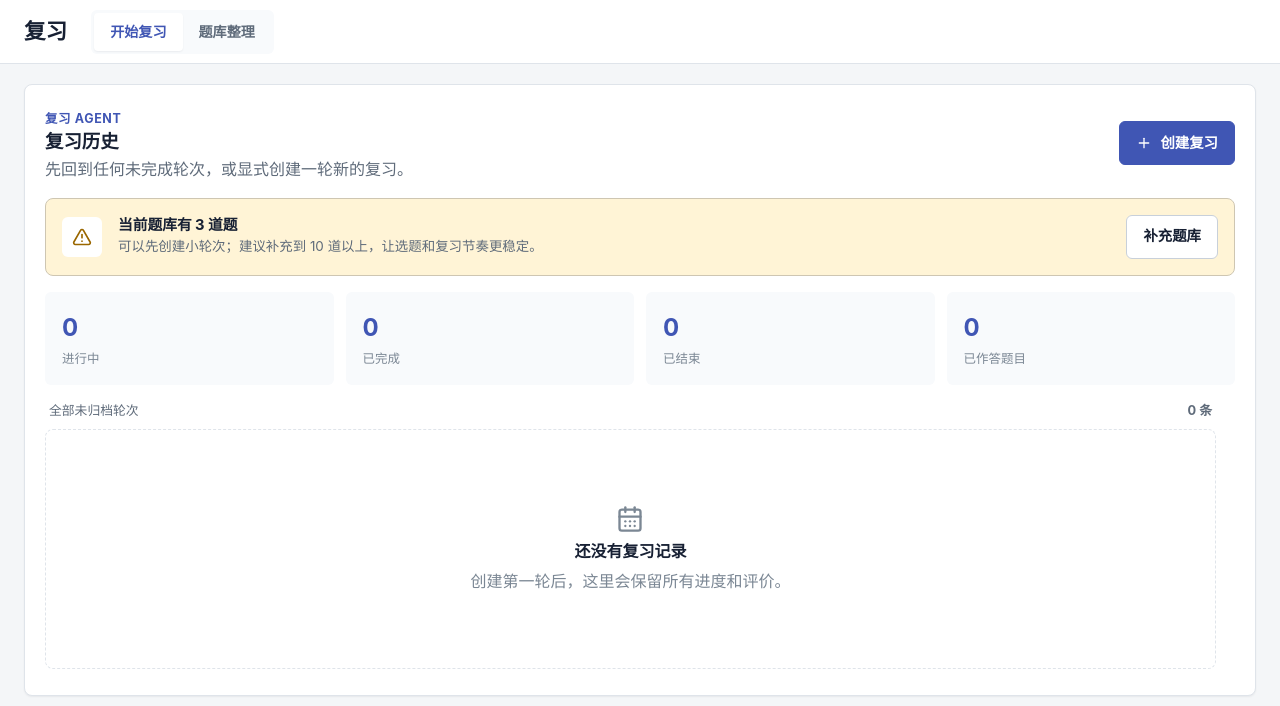
Scenario: R2 ReviewPage › selects a source file and derives the actual round size from its questions
The image size is (1280, 706).
Click the button "创建复习" at (1177, 143), box [1119, 121, 1235, 165]
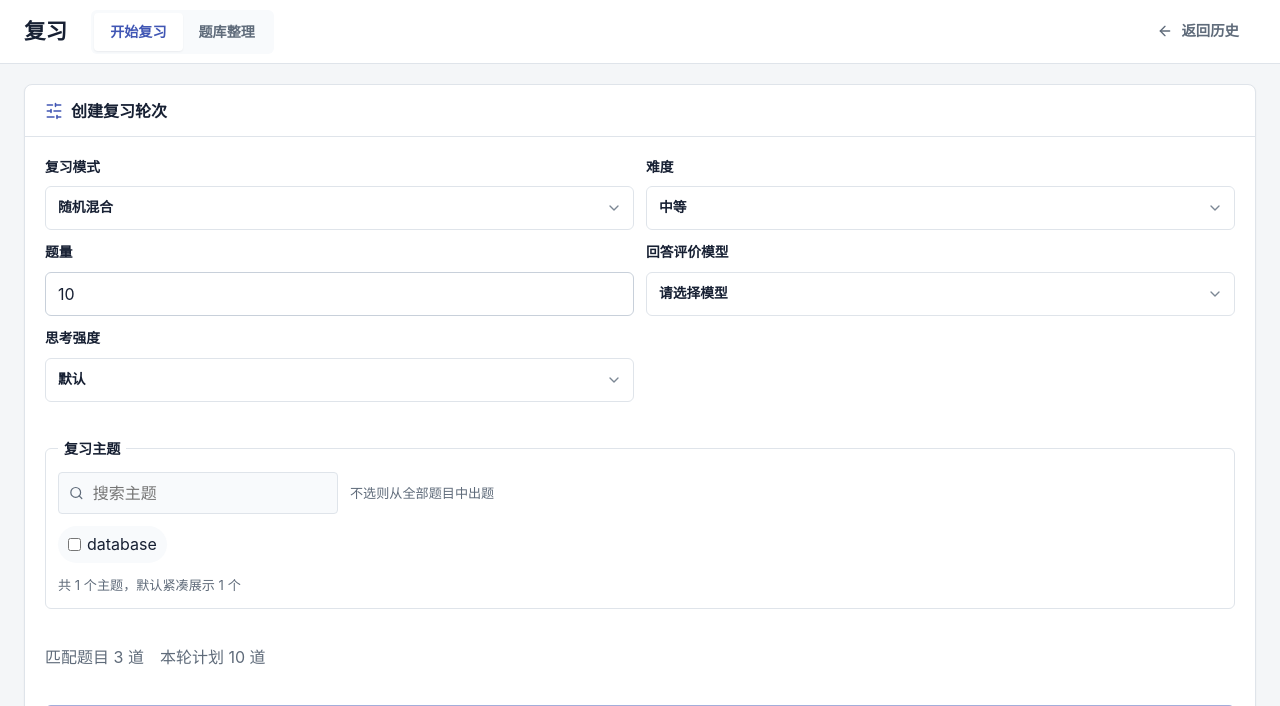
Select "按资料复习" in the dropdown labelled "复习模式" at (340, 208), box [45, 186, 634, 230]
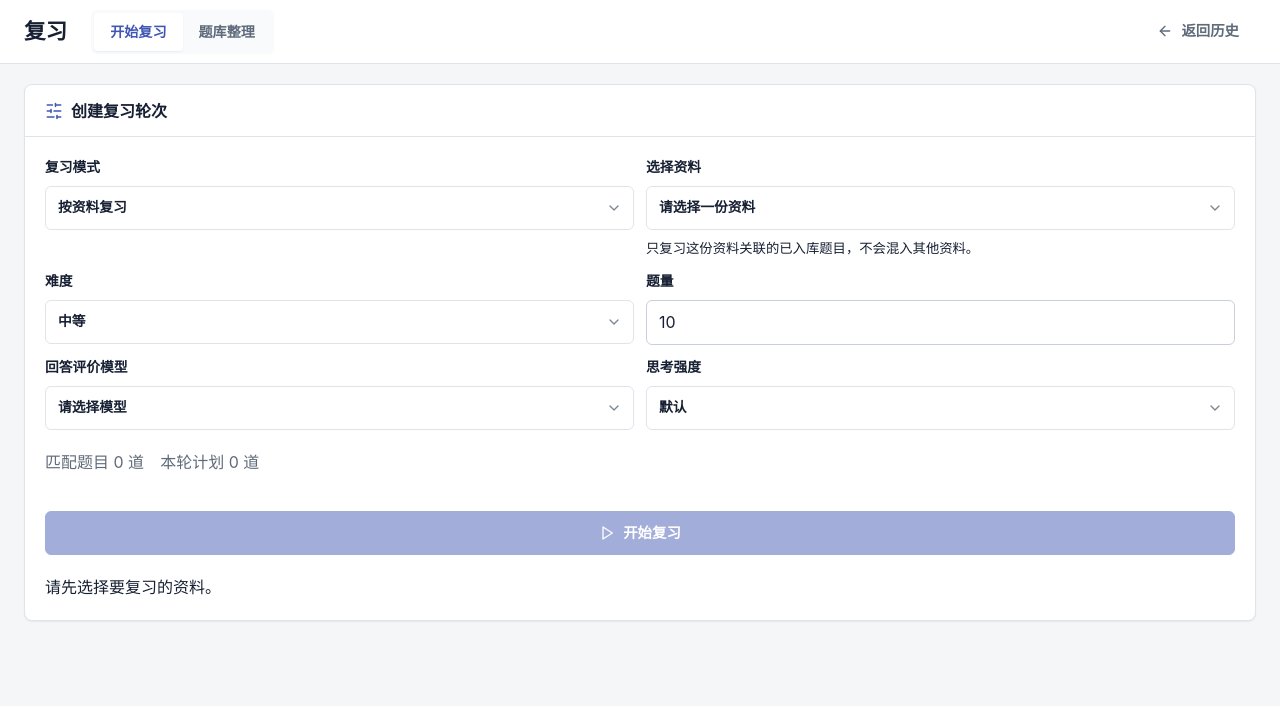
Select "MyBatis 拦截器.md（2 道）" in the dropdown named "选择复习资料" at (940, 208), box [646, 186, 1235, 230]
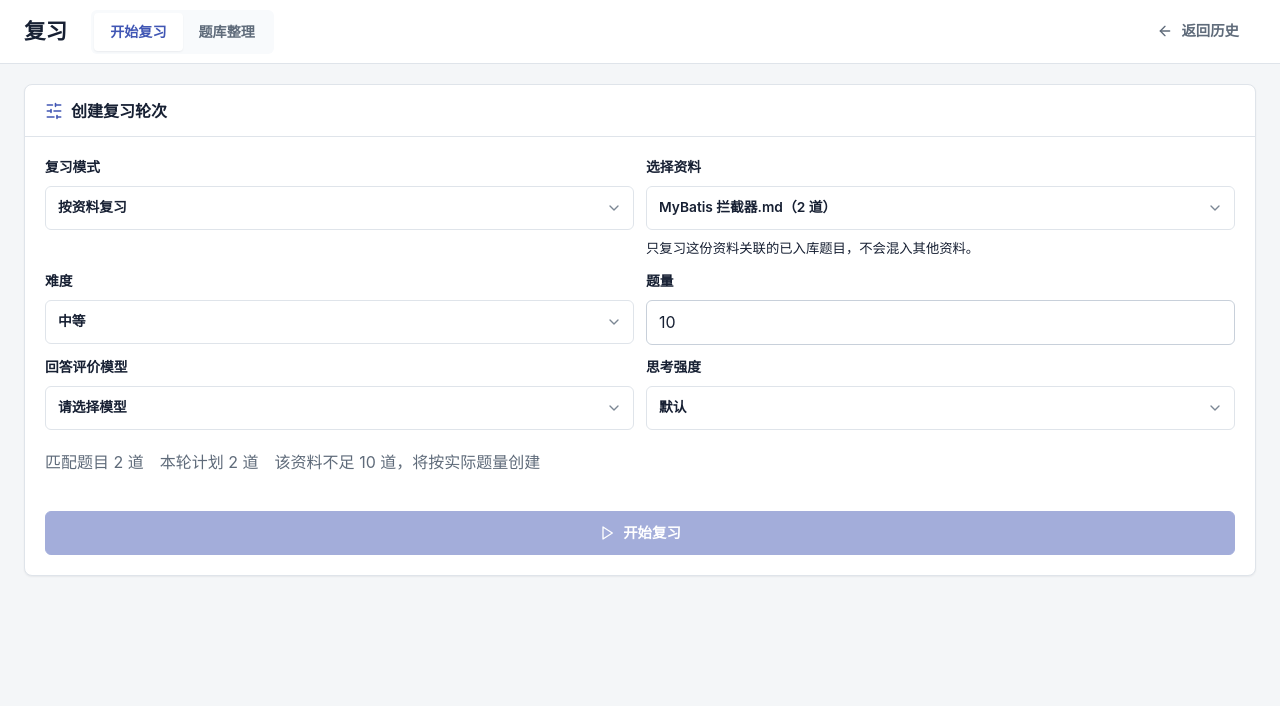
Result: the text "匹配题目 2 道" is shown at [45, 450, 144, 475]
Result: the text "本轮计划 2 道" is shown at [160, 450, 259, 475]
Result: the text "该资料不足 10 道，将按实际题量创建" is shown at [275, 450, 540, 475]
